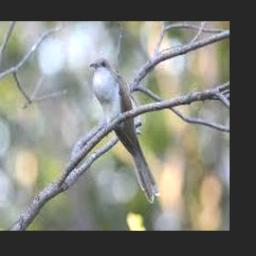Cuckoo: (89, 56, 160, 203)
